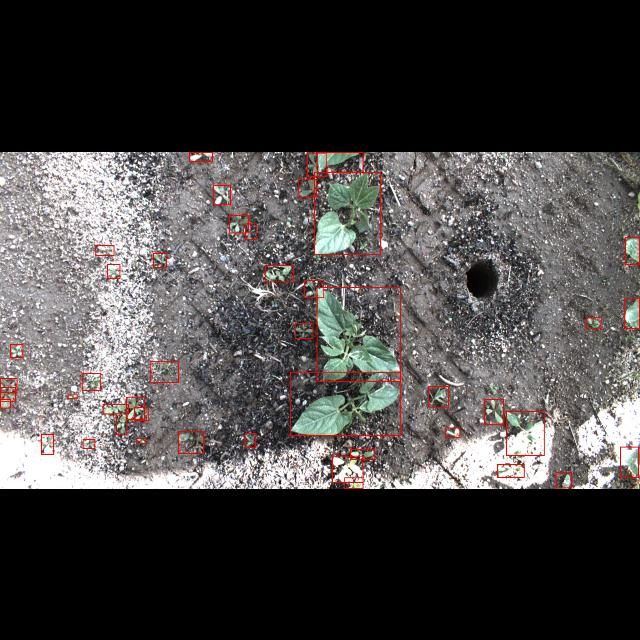crop: (316, 287, 399, 381), (290, 371, 400, 435), (314, 171, 381, 253), (317, 151, 363, 171), (621, 447, 639, 477), (624, 298, 640, 328), (625, 236, 639, 264)
weed: (506, 411, 544, 455), (332, 456, 363, 482), (178, 431, 204, 453), (151, 362, 179, 382), (484, 398, 504, 424), (265, 264, 293, 282), (308, 152, 326, 176), (428, 386, 448, 406), (126, 397, 144, 419), (496, 464, 524, 478), (229, 214, 249, 232), (213, 184, 230, 204), (82, 372, 100, 390), (299, 178, 317, 196), (304, 280, 324, 296), (295, 322, 313, 338), (556, 472, 572, 488), (104, 404, 128, 414), (41, 434, 53, 454), (351, 449, 375, 459), (1, 378, 17, 392), (190, 151, 212, 161), (1, 387, 16, 401), (116, 414, 126, 434), (10, 344, 24, 358), (134, 407, 148, 421), (96, 245, 114, 255), (345, 478, 363, 488), (108, 263, 120, 277), (154, 252, 166, 266), (244, 433, 256, 447), (246, 223, 256, 239), (444, 427, 460, 437), (586, 317, 600, 328), (83, 438, 95, 448), (0, 398, 10, 408), (136, 438, 146, 442), (68, 394, 76, 398)
